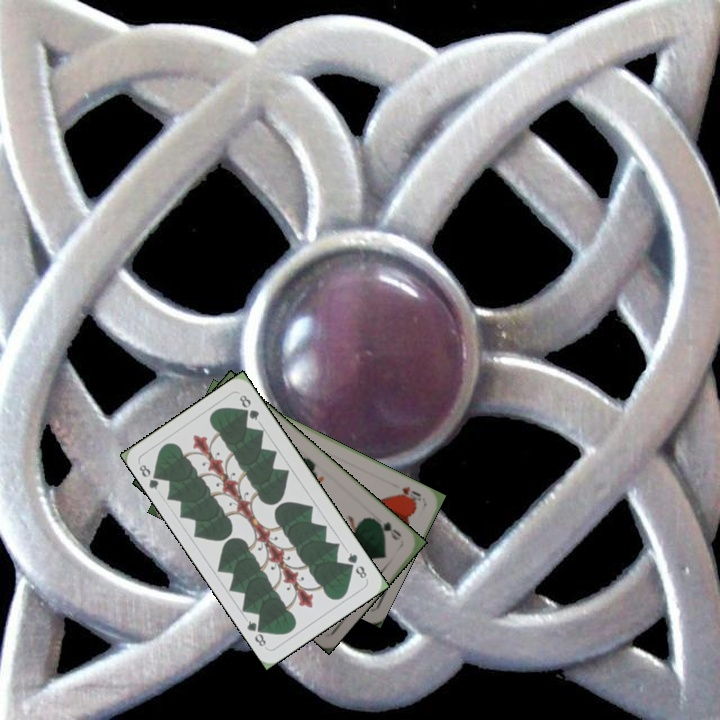G8: (135, 460, 164, 493), (343, 548, 369, 581)
GO: (371, 516, 405, 543)
HO: (394, 482, 424, 506)
